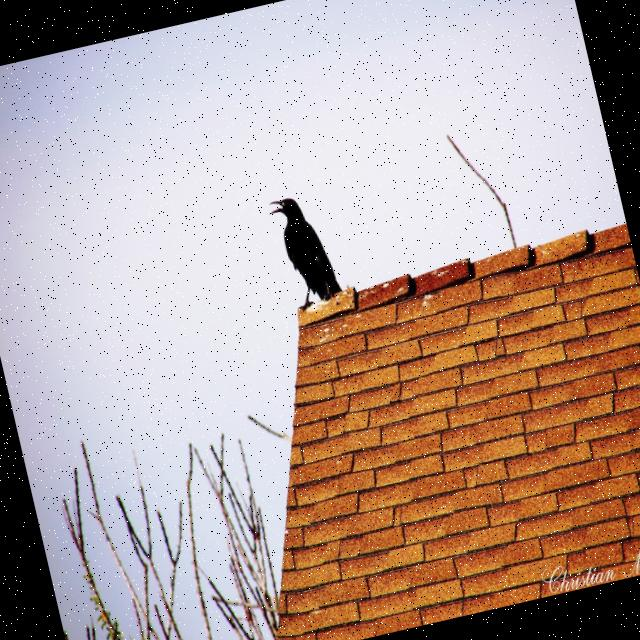bird: (265, 188, 347, 312)
